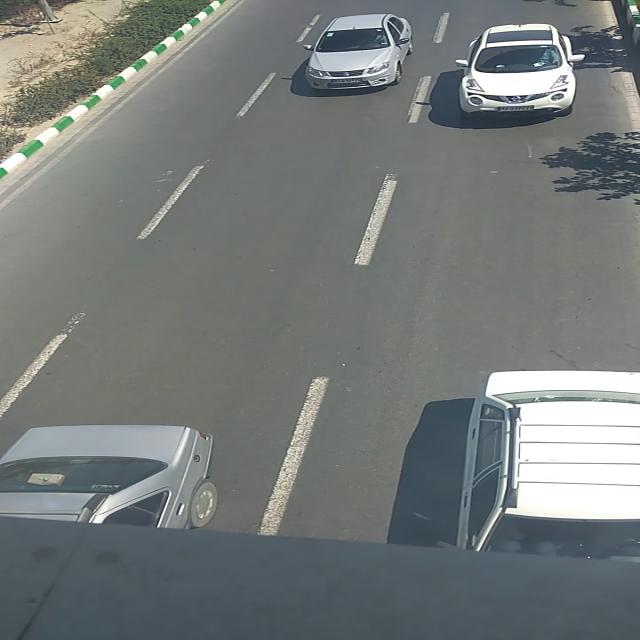car: (458, 370, 640, 564), (1, 423, 220, 527), (455, 24, 585, 116), (302, 13, 416, 91)
